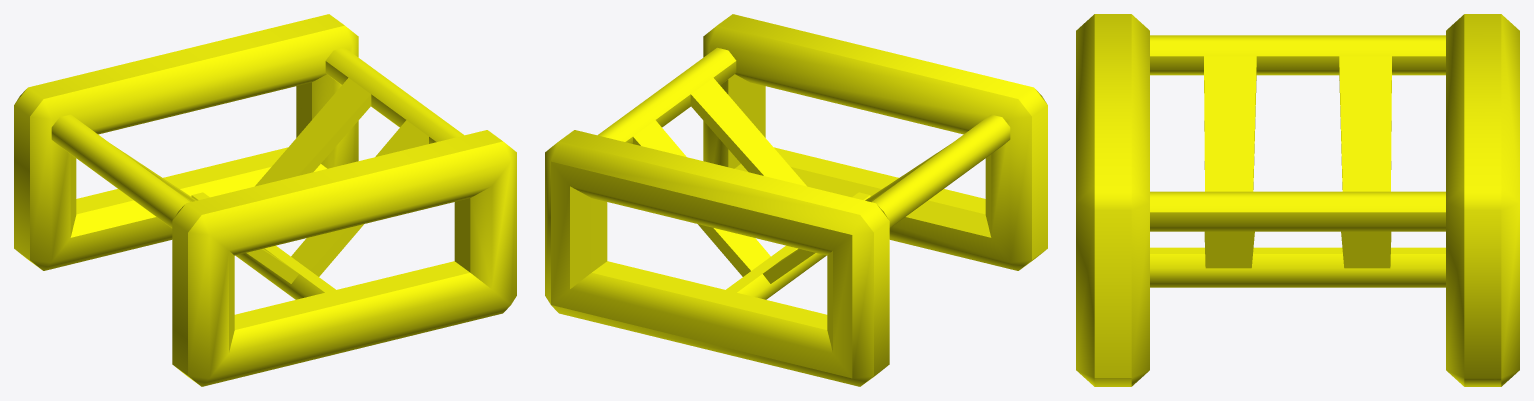
Rendered from dishrack.gltf.
The picture shows the model from 3 angles, left to right: view 1: azimuth 30°, elevation 25°; view 2: azimuth 150°, elevation 25°; view 3: azimuth 270°, elevation 25°; orthographic projection. The views are drawn at different scales.
Parts seen in each view (by area): view 1: dishrack; view 2: dishrack; view 3: dishrack.
Part boxes in pixels (x1,y1,x2,y2): dishrack: (14, 14, 516, 386); dishrack: (545, 14, 1047, 386); dishrack: (1076, 14, 1519, 386).
Size of the model in its own units: 1.2 by 0.6 by 1.2.
1 material, 1 textured.
